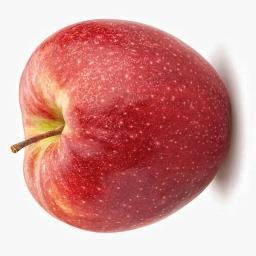apple: (11, 16, 238, 236)
